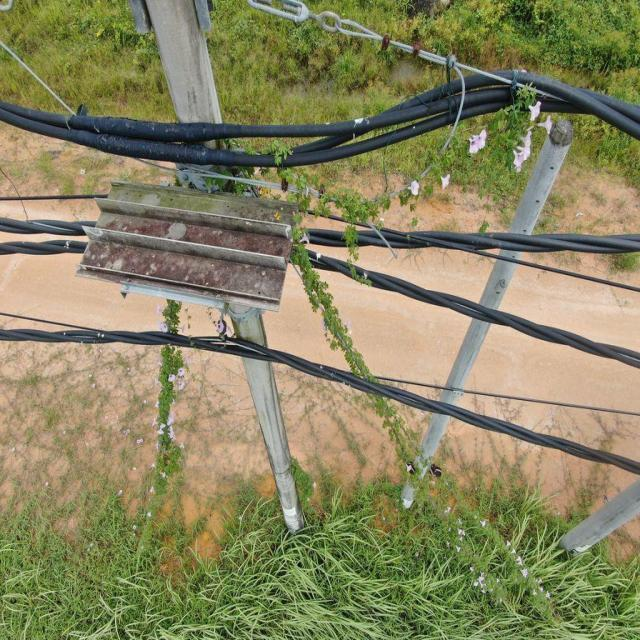critical vegetation: (296, 252, 556, 620), (220, 76, 542, 224), (123, 300, 192, 558)
